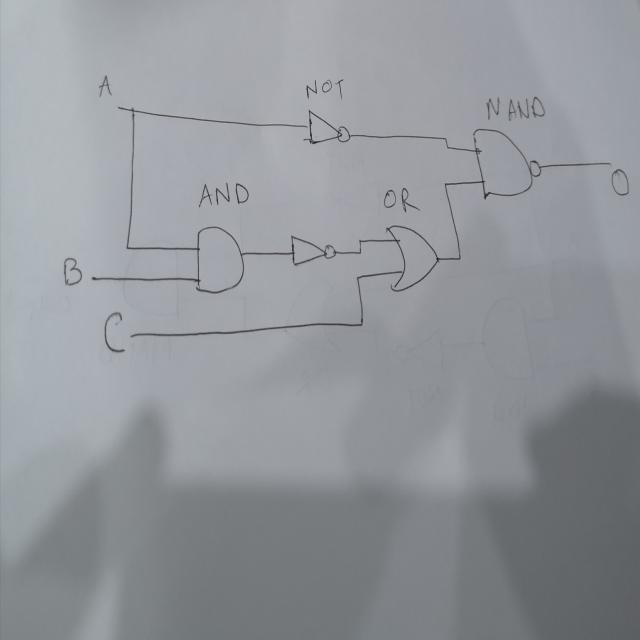junction: (128, 102, 135, 116), (354, 272, 361, 284), (442, 178, 449, 190), (358, 317, 364, 330), (124, 240, 130, 253), (442, 135, 448, 147), (456, 252, 462, 262), (444, 140, 449, 150), (357, 248, 361, 256), (358, 236, 362, 244)
terminal: (606, 155, 614, 171), (89, 271, 97, 284), (128, 329, 136, 341), (115, 100, 122, 112)
text: (483, 92, 546, 125), (198, 179, 251, 210), (306, 75, 344, 113), (381, 183, 422, 214), (101, 308, 128, 354), (63, 253, 84, 288), (610, 166, 630, 198), (98, 73, 112, 98)
